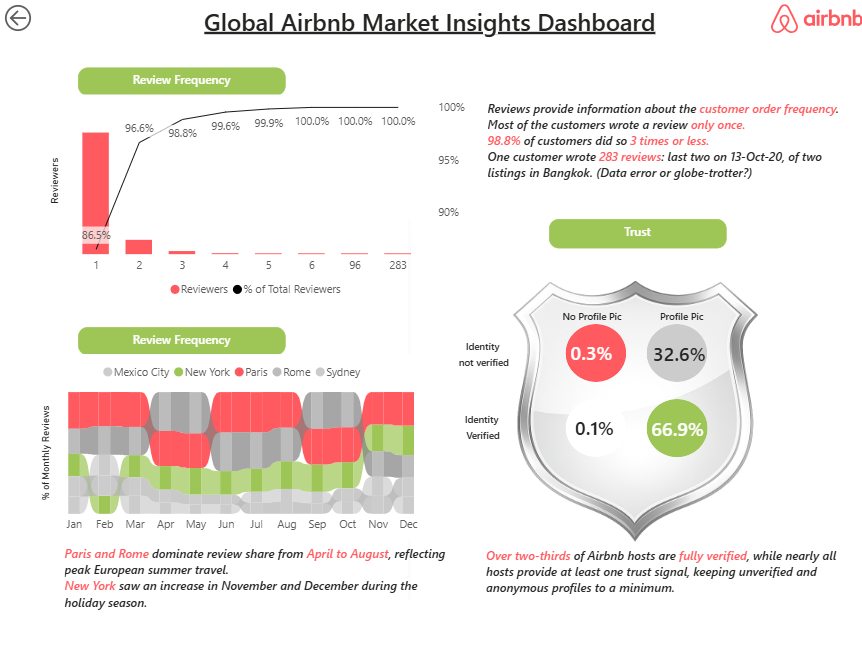

The dashboard page shown, as its layout file describes it:
{"tool":"powerbi","page":{"name":"Reviews","canvas":[960,720],"ordinal":2},"visuals":[{"type":"textbox","box":[221.2,0,517.5,105],"z":0},{"type":"image","box":[856.7,0,103.3,41.7],"z":1000},{"type":"textbox","box":[87.4,74.5,230.7,31.2],"z":2000},{"type":"actionButton","box":[0,0,100,40],"z":4000},{"type":"lineStackedColumnComboChart","fields":{"Category":["Reviews.Reviews per Reviewer"],"Y":["Reviews.Reviewers"],"Y2":["Reviews.Cumulative % review frequency"]},"box":[50.2,105.2,471.6,235.1],"z":5000},{"type":"textbox","box":[536,105.2,405.6,118.3],"z":6000},{"type":"image","box":[453.4,242.9,506.8,424.2],"z":7000},{"type":"shape","box":[718.9,443.7,68,64.8],"z":8000},{"type":"cardVisual","fields":{"Data":["Listings.Verified_Profile %"]},"box":[684.9,427.5,136.7,95.3],"z":9000},{"type":"shape","box":[719,359.5,67.6,64.5],"z":10000},{"type":"shape","box":[628.3,443.7,67.6,64.5],"z":11000},{"type":"shape","box":[628.3,359.5,67.6,64.5],"z":12000},{"type":"cardVisual","fields":{"Data":["Listings.NotVerified_NoProfile %"]},"box":[605.6,317.4,113.3,147.3],"z":13000},{"type":"cardVisual","fields":{"Data":["Listings.Verified_NoProfile %"]},"box":[610.4,435.6,108.5,77.7],"z":14000},{"type":"cardVisual","fields":{"Data":["Listings.NotVerified_Profile %"]},"box":[696.3,330.3,142.5,123.1],"z":15000},{"type":"textbox","box":[620.2,335.2,129.5,43.7],"z":16000},{"type":"textbox","box":[728.7,335.2,77.7,92.3],"z":17000},{"type":"textbox","box":[459.9,367.6,152.2,48.6],"z":18000},{"type":"textbox","box":[472.8,450.1,126.3,48.6],"z":19000},{"type":"textbox","box":[610.4,242.9,197.5,32.4],"z":20000},{"type":"textbox","box":[87.4,362.7,230.7,31.2],"z":21000},{"type":"ribbonChart","fields":{"Y":["Reviews.% of Monthly Reviews"],"Series":["Listings.city"],"Category":["Reviews.Review Month"]},"box":[40.5,393.5,438.8,207.3],"z":22000},{"type":"textbox","box":[66.4,600.7,440.4,89.1],"z":23000},{"type":"textbox","box":[534.3,602.4,406.4,64.8],"z":23001}]}

Visuals, with their boxes in screenshot pixels (x1, y1, x2, y2), scaled from the page's 960x720 canvas onto the 862x646 screenshot:
textbox: 199/0/663/94
image: 769/0/861/37
textbox: 78/67/286/95
actionButton: 0/0/90/36
lineStackedColumnComboChart - Reviews.Reviews per Reviewer x Reviews.Reviewers: 45/94/469/305
textbox: 481/94/845/201
image: 407/218/861/599
shape: 646/398/707/456
cardVisual - Listings.Verified_Profile %: 615/384/738/469
shape: 646/323/706/380
shape: 564/398/625/456
shape: 564/323/625/380
cardVisual - Listings.NotVerified_NoProfile %: 544/285/646/417
cardVisual - Listings.Verified_NoProfile %: 548/391/646/461
cardVisual - Listings.NotVerified_Profile %: 625/296/753/407
textbox: 557/301/673/340
textbox: 654/301/724/384
textbox: 413/330/550/373
textbox: 425/404/538/447
textbox: 548/218/725/247
textbox: 78/325/286/353
ribbonChart - Reviews.% of Monthly Reviews x Listings.city: 36/353/430/539
textbox: 60/539/455/619
textbox: 480/540/845/599
